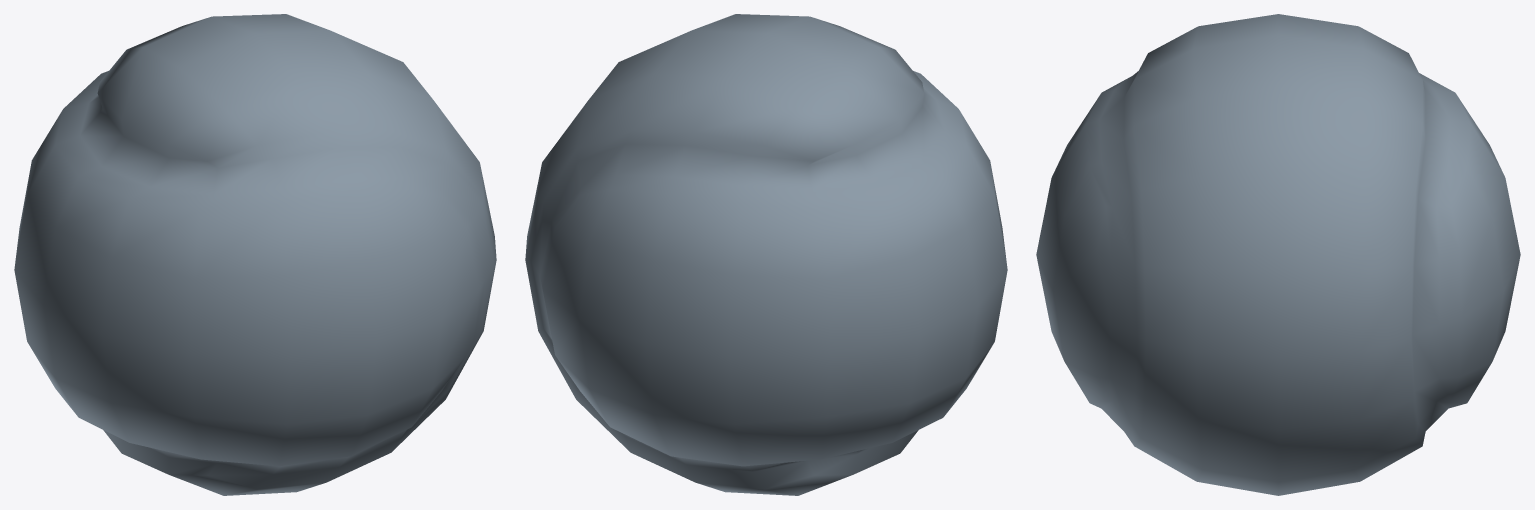
File: golfvr-scene-ball.glb
3 views of the same model, side by side, from view 1: azimuth 30°, elevation 25°; view 2: azimuth 150°, elevation 25°; view 3: azimuth 270°, elevation 25° (orthographic).
Parts seen in each view (by area): view 1: TennisBall; view 2: TennisBall; view 3: TennisBall.
Part boxes in pixels (left/top/right/bottom): TennisBall: left=14, top=14, right=496, bottom=495; TennisBall: left=525, top=14, right=1007, bottom=495; TennisBall: left=1036, top=14, right=1520, bottom=495.
Size of the model in its own units: 4 by 4 by 4.
